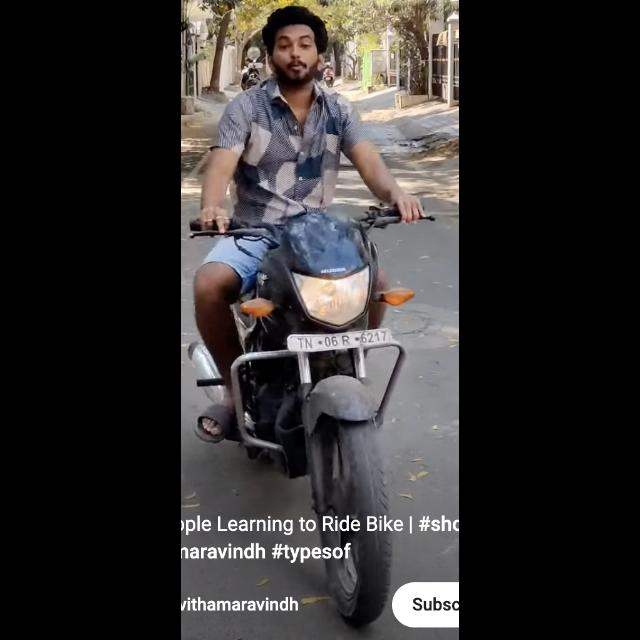without helmet: (264, 3, 330, 83)
